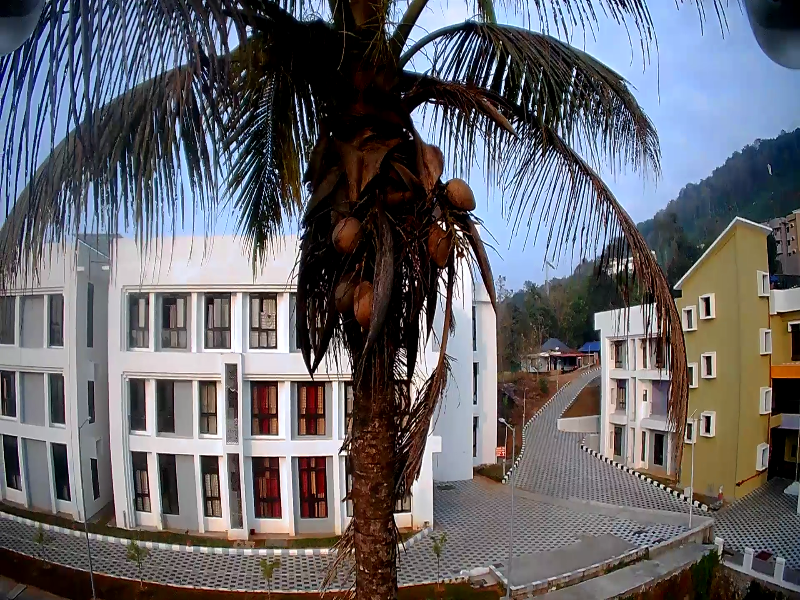coconut: (351, 277, 380, 324), (446, 176, 473, 213), (335, 216, 361, 253), (427, 227, 449, 264), (328, 275, 349, 300)
